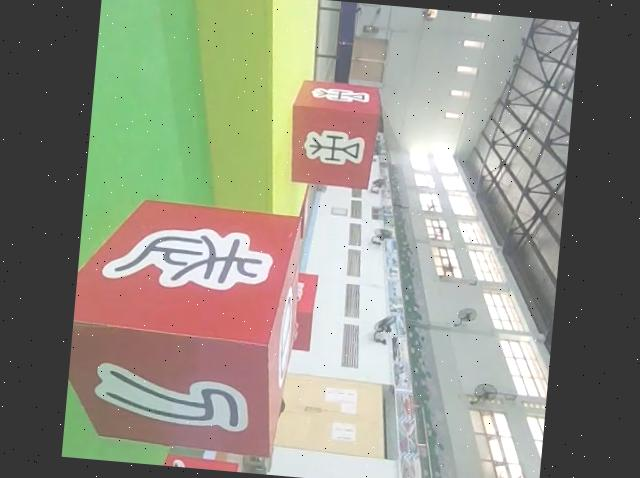R2 Fake: (63, 192, 308, 455)
R2 Real: (285, 78, 383, 190)
